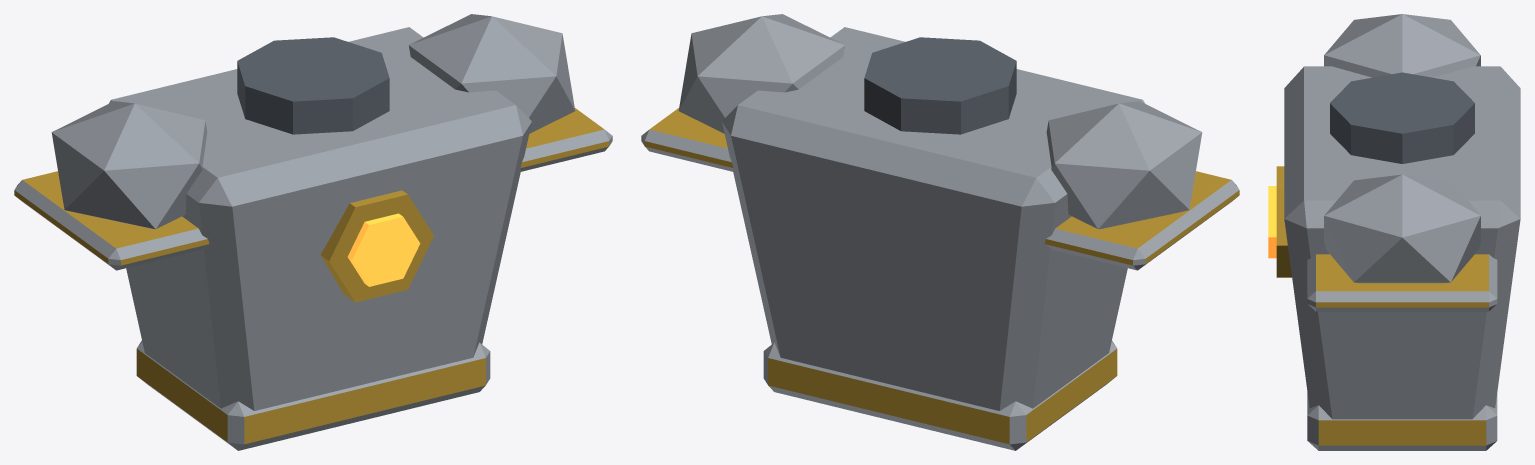
The model's file is titanheart_plate.glb.
The picture shows the model from 3 angles, left to right: view 1: azimuth 30°, elevation 25°; view 2: azimuth 150°, elevation 25°; view 3: azimuth 270°, elevation 25°; orthographic projection. The views are drawn at different scales.
Visible parts, largest first — view 1: titanheart_plate; view 2: titanheart_plate; view 3: titanheart_plate.
Part boxes in pixels (bbox=[...]): titanheart_plate: bbox=[14, 14, 612, 450]; titanheart_plate: bbox=[641, 14, 1239, 450]; titanheart_plate: bbox=[1268, 14, 1520, 450].
Bounding box in the file's own units: 0.96 × 0.5975 × 0.4515.
